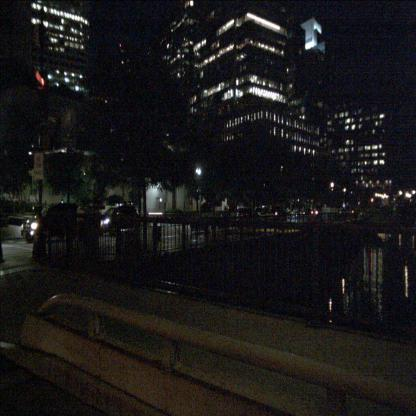vehicle-car: (22, 202, 78, 242), (98, 203, 140, 237)
